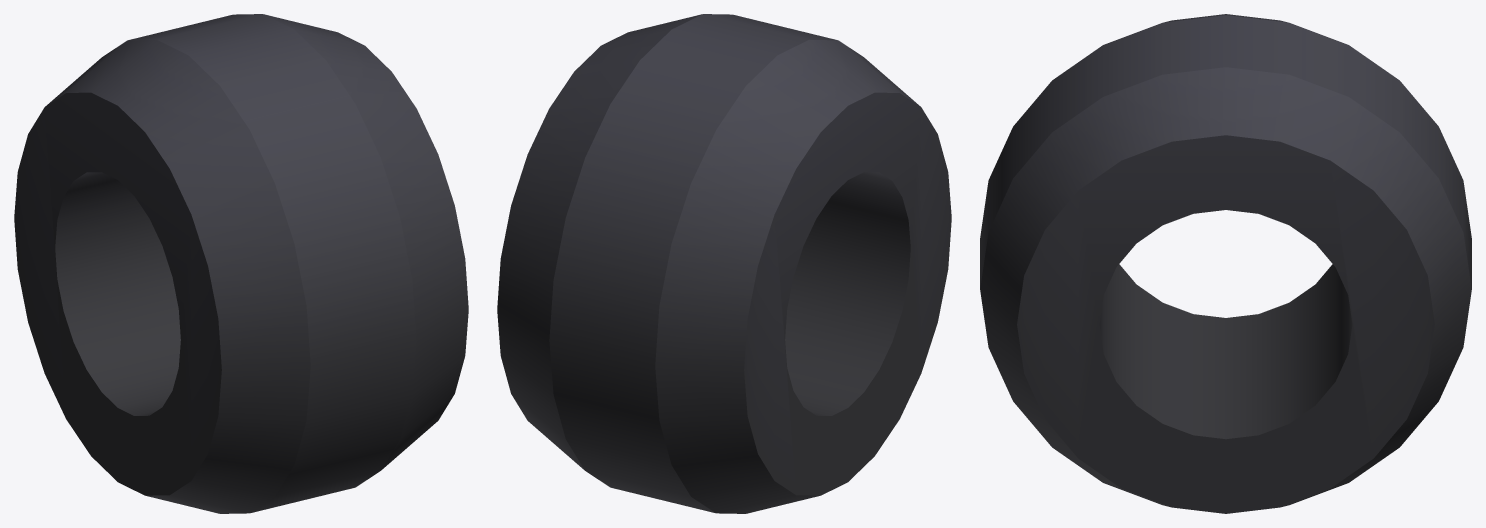
File: debris-tire.fbx
The picture shows the model from 3 angles, left to right: view 1: azimuth 30°, elevation 25°; view 2: azimuth 150°, elevation 25°; view 3: azimuth 270°, elevation 25°; orthographic projection.
Parts seen in each view (by area): view 1: debris-tire; view 2: debris-tire; view 3: debris-tire.
Boxes of the visible parts, x1,y1,x2,y2 form: debris-tire: (14,14,468,513); debris-tire: (497,14,951,513); debris-tire: (980,14,1471,513).
Size of the model in its own units: 35 by 60 by 60.
1 material, 1 textured.
